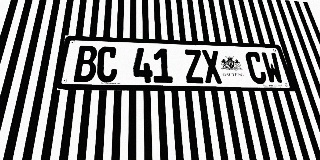1: (152, 48, 173, 83)
4: (133, 47, 153, 83)
B: (73, 45, 98, 82)
C: (96, 46, 118, 82), (244, 51, 268, 84)
W: (260, 52, 285, 84)
X: (201, 50, 223, 83)
Z: (183, 49, 205, 83)
